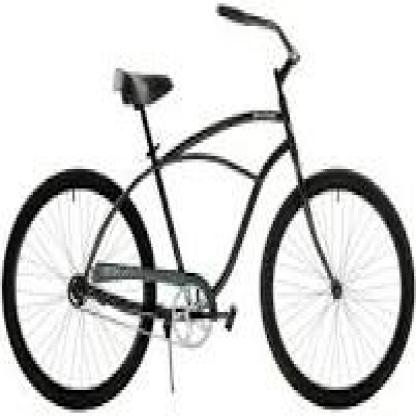Bike: (0, 1, 416, 413)
